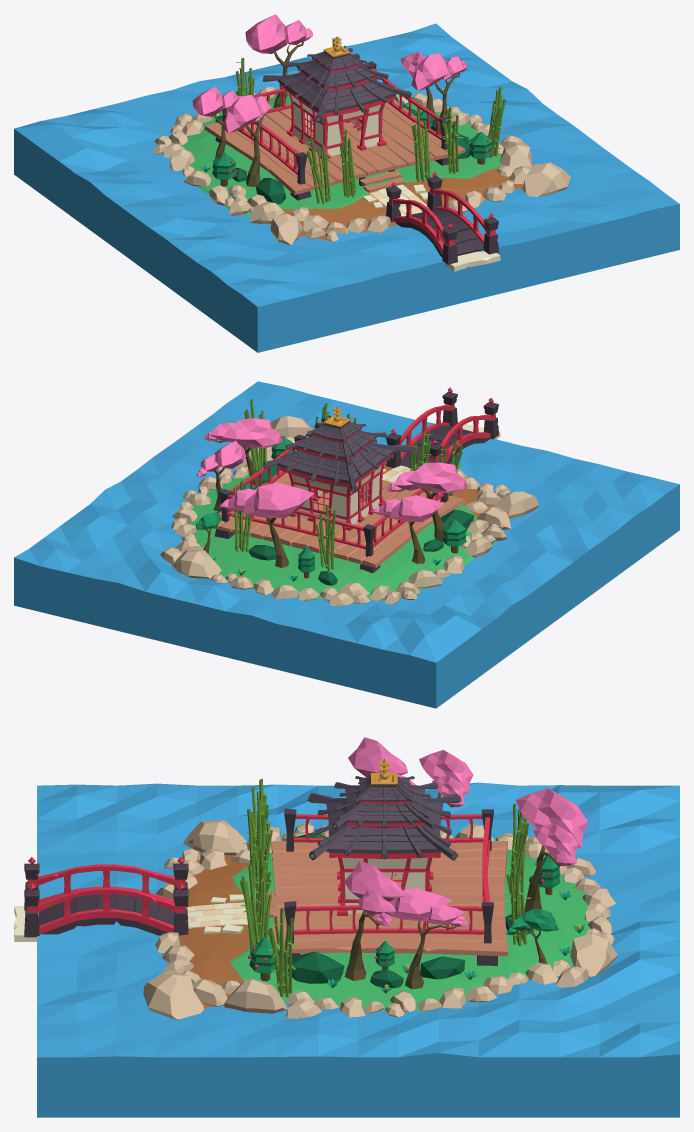
The model's file is low-poly-japanese-scene.fbx.
3 renders of one model, top to bottom at view 1: azimuth 30°, elevation 25°; view 2: azimuth 150°, elevation 25°; view 3: azimuth 270°, elevation 25°, orthographic. The views are drawn at different scales.
Parts seen in each view (by area): view 1: Water, House Foundation, House, Ground, Bridge, Tree_1, Tree_3, Tree_4, Stone_5, Tree_2, Path, Stone_50 (+8 smaller); view 2: Water, House, Ground, House Foundation, Bridge, Tree_1, Tree_3, Tree_4, Tree_2, Tree_5, Stone_24, Stone_50 (+4 smaller); view 3: Water, House Foundation, Ground, House, Bridge, Tree_1, Tree_4, Tree_5, Stone_5, Path, Tree_2, Stone_50 (+13 smaller).
Part boxes in pixels (x1,y1,x2,y2): Water: (14,23,679,352); House Foundation: (204,61,465,200); House: (262,36,411,158); Ground: (170,95,523,241); Bridge: (386,172,500,271); Tree_1: (245,14,312,108); Tree_3: (222,94,271,186); Tree_4: (411,53,467,135); Stone_5: (522,162,570,197); Tree_2: (192,86,240,159); Path: (363,184,428,216); Stone_50: (270,213,303,244); Water: (14,381,679,708); House: (263,406,412,530); Ground: (188,463,497,599); House Foundation: (213,435,465,573); Bridge: (386,387,500,469); Tree_1: (220,482,314,568); Tree_3: (386,462,468,541); Tree_4: (204,418,283,488); Tree_2: (373,495,444,563); Tree_5: (197,441,246,510); Stone_24: (171,549,221,578); Stone_50: (494,491,538,518); Water: (37,782,679,1117); House Foundation: (255,808,507,965); Ground: (179,837,590,1010); House: (307,759,461,915); Bridge: (14,857,188,941); Tree_1: (515,788,587,912); Tree_4: (344,861,404,980); Tree_5: (388,888,469,989); Stone_5: (143,970,203,1019); Path: (186,894,247,934); Tree_2: (419,750,473,807); Stone_50: (183,820,247,855).
Size of the model in its own units: 800 by 305 by 829.
